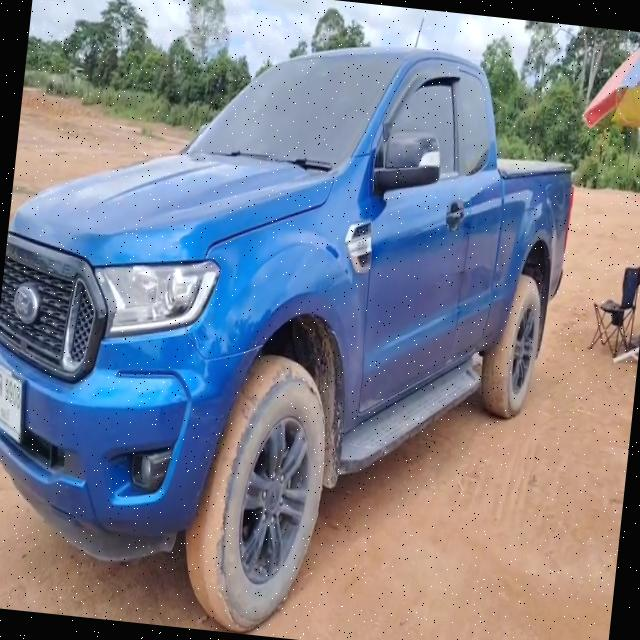Digit: (4, 377, 21, 410)
Licenseplate: (0, 365, 23, 444)
Provincename: (0, 404, 10, 424)
Thaichar: (0, 373, 3, 398)
